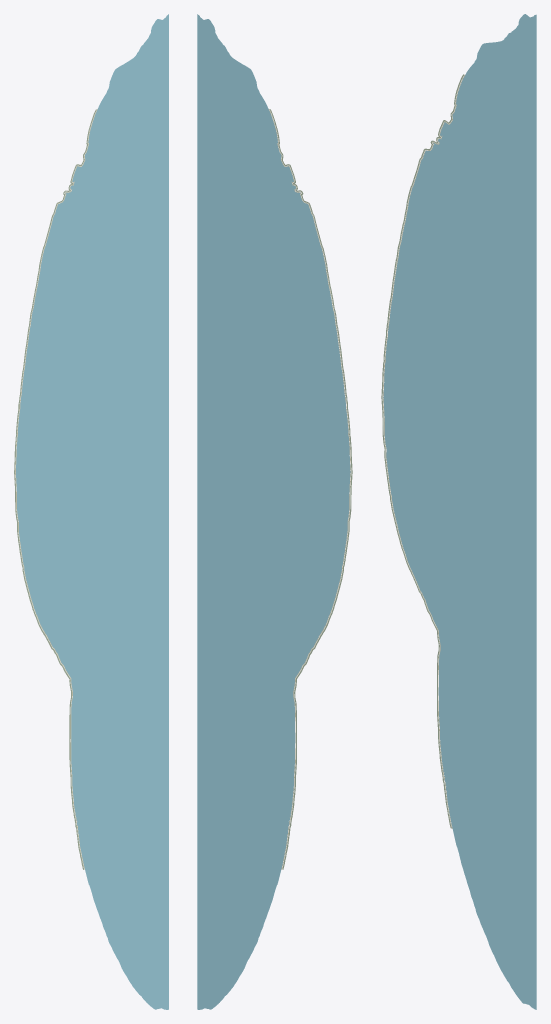
The model's file is context-coast-round2-r2.glb.
3 renders of one model, left to right at view 1: azimuth 30°, elevation 25°; view 2: azimuth 150°, elevation 25°; view 3: azimuth 330°, elevation 25°, orthographic.
Visible parts, largest first — view 1: farm-coast-sea, farm-coast-windbreak, farm-coast-dune; view 2: farm-coast-sea, farm-coast-windbreak, farm-coast-dune; view 3: farm-coast-sea, farm-coast-windbreak, farm-coast-dune.
Part boxes in pixels (x1,y1,x2,y2): farm-coast-sea: (16, 14, 168, 1009); farm-coast-windbreak: (14, 109, 96, 869); farm-coast-dune: (15, 109, 97, 869); farm-coast-sea: (197, 14, 350, 1009); farm-coast-windbreak: (269, 109, 352, 869); farm-coast-dune: (268, 109, 350, 869); farm-coast-sea: (383, 14, 536, 1009); farm-coast-windbreak: (381, 74, 463, 828); farm-coast-dune: (383, 75, 464, 828).
Size of the model in its own units: 5356 by 32867 by 10.6.
